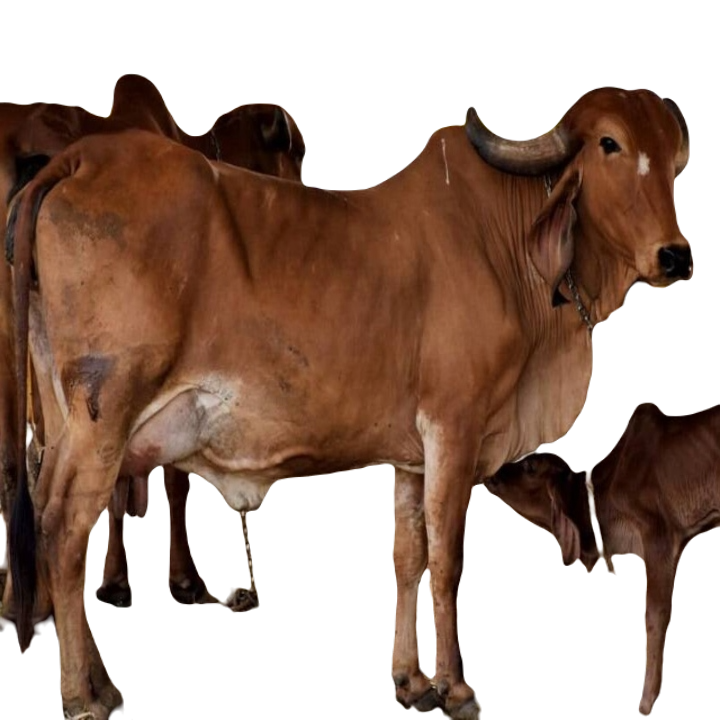Cow: (2, 87, 691, 719)
